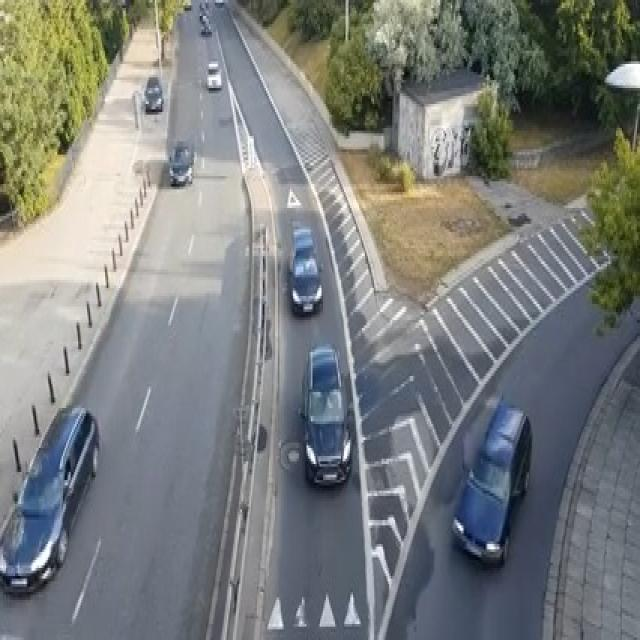car: (0, 402, 99, 594), (451, 395, 532, 565), (299, 342, 352, 486), (287, 224, 321, 315), (168, 139, 194, 184), (142, 75, 164, 112), (206, 59, 221, 88), (200, 16, 210, 35), (213, 0, 223, 5)
